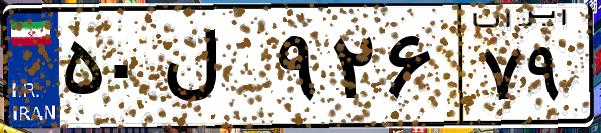0: (110, 28, 158, 98)
2: (330, 28, 385, 110)
5: (57, 26, 110, 100)
6: (385, 28, 445, 110)
7: (475, 38, 525, 113)
9: (270, 28, 330, 110), (525, 38, 570, 115)
ل: (158, 20, 270, 120)
